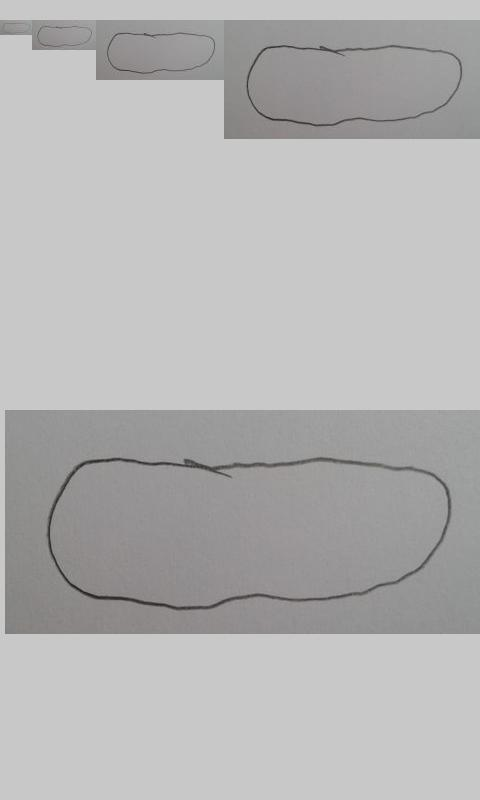chip: (46, 456, 454, 613), (246, 45, 463, 127), (106, 32, 216, 74), (37, 25, 93, 47), (1, 22, 31, 34)
